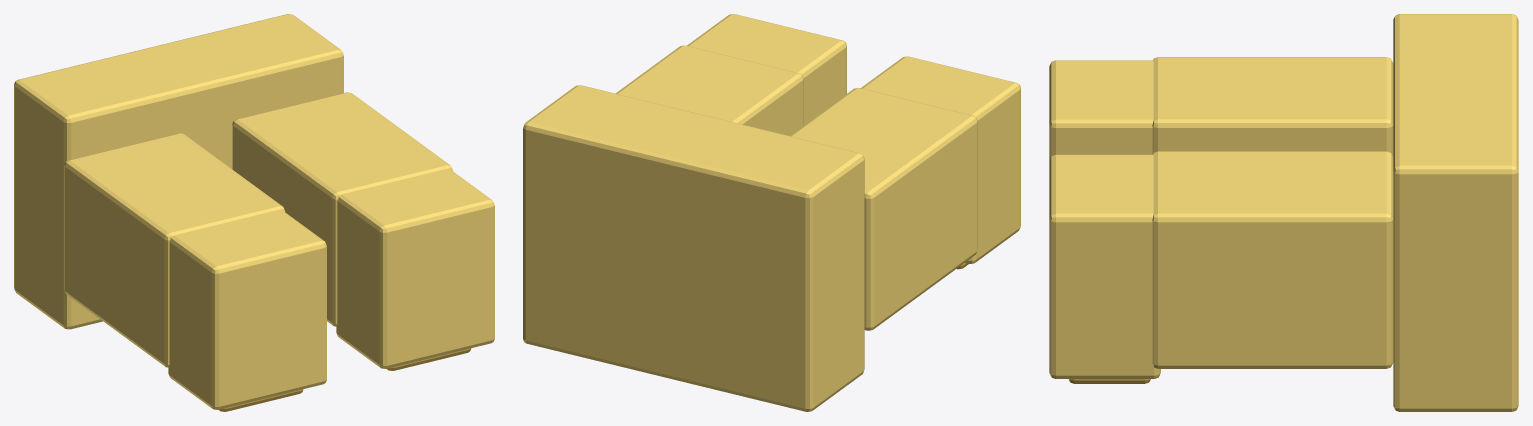
Rendered from gold_leggings_held.gltf.
3 views of the same model, side by side, from view 1: azimuth 30°, elevation 25°; view 2: azimuth 150°, elevation 25°; view 3: azimuth 270°, elevation 25° (orthographic). The views are drawn at different scales.
Parts seen in each view (by area): view 1: armor_gold_leggings_held; view 2: armor_gold_leggings_held; view 3: armor_gold_leggings_held.
Boxes of the visible parts, box(x1,y1,x2,y2) form: armor_gold_leggings_held: box(14, 14, 494, 411); armor_gold_leggings_held: box(523, 14, 1020, 411); armor_gold_leggings_held: box(1049, 14, 1518, 411).
Bounding box in the file's own units: 0.1632 × 0.122 × 0.2.
